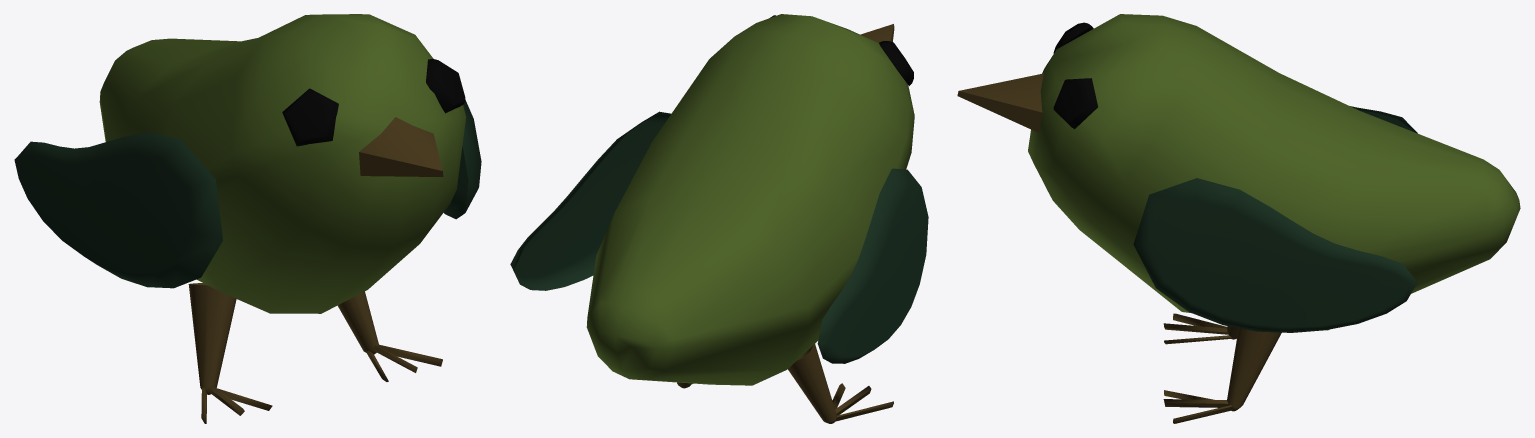
Rendered from bird 5 (vertex).fbx.
3 views of the same model, side by side, from view 1: azimuth 30°, elevation 25°; view 2: azimuth 150°, elevation 25°; view 3: azimuth 270°, elevation 25° (orthographic). The views are drawn at different scales.
Visible parts, largest first — view 1: bird5; view 2: bird5; view 3: bird5.
Part boxes in pixels (x1,y1,x2,y2): bird5: (14, 14, 481, 423); bird5: (510, 14, 928, 423); bird5: (957, 14, 1520, 423).
Bounding box in the file's own units: 27.82 × 28.69 × 41.62.
